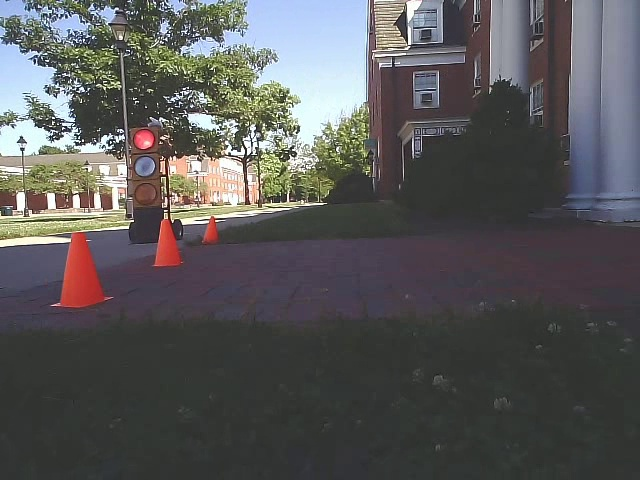red: (128, 125, 163, 207)
